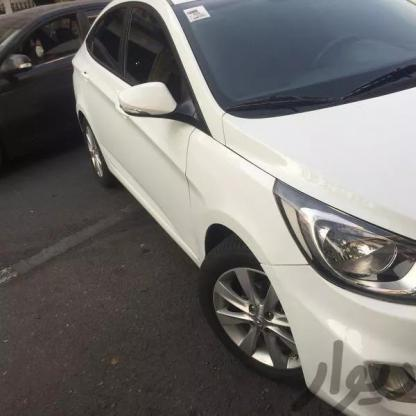Car: (102, 0, 416, 416), (0, 0, 138, 229)
